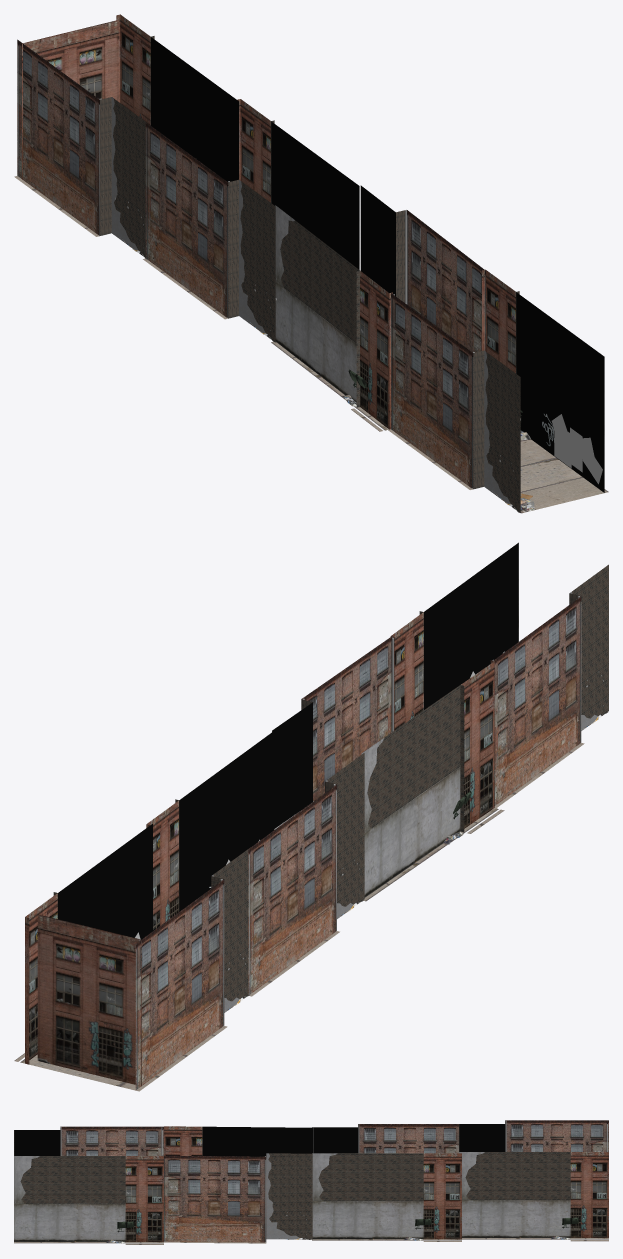
File: escenarioConvertido.fbx
The picture shows the model from 3 angles, top to bottom: view 1: azimuth 30°, elevation 25°; view 2: azimuth 150°, elevation 25°; view 3: azimuth 270°, elevation 25°; orthographic projection. The views are drawn at different scales.
Visible parts, largest first — view 1: Plane_1, Plane.002_3.001, Plane_1.002, Plane_1.003, Plane.003_47, Plane.003_47.003, Plane_1.001, Plane.003_47.002, Plane.001_2.002, Plane.001_2, Plane.001_2.003, Plane.004_48.001 (+4 smaller); view 2: Plane_1, Plane.002_3.001, Plane_1.003, Plane_1.002, Plane.003_47.002, Plane.003_47, Plane_1.001, Plane.003_47.003, Plane.001_2, Plane.001_2.002, Plane.004_48.001, Plane.001_2.003 (+3 smaller); view 3: Plane.002_3.002, Plane.002_3, Plane.002_3.003, Plane_1.001, Plane.001_2.001, Plane_1.003, Plane_1, Plane_1.002, Plane.003_47.001, Plane.004_48.003, Plane.004_48, Plane.004_48.002 (+1 smaller).
Part boxes in pixels (<box>): Plane_1: <box>22,20,608,513</box>; Plane.002_3.001: <box>275,205,392,431</box>; Plane_1.002: <box>143,122,276,342</box>; Plane_1.003: <box>14,39,99,236</box>; Plane.003_47: <box>516,292,604,492</box>; Plane.003_47.003: <box>151,37,238,181</box>; Plane_1.001: <box>271,210,485,430</box>; Plane.003_47.002: <box>271,121,359,269</box>; Plane.001_2.002: <box>228,179,275,342</box>; Plane.001_2: <box>473,350,520,512</box>; Plane.001_2.003: <box>100,97,147,257</box>; Plane.004_48.001: <box>361,185,395,296</box>; Plane_1: <box>37,596,584,1086</box>; Plane.002_3.001: <box>361,660,504,897</box>; Plane_1.003: <box>20,879,227,1091</box>; Plane_1.002: <box>248,784,339,996</box>; Plane.003_47.002: <box>179,731,274,911</box>; Plane.003_47: <box>424,543,518,709</box>; Plane_1.001: <box>301,635,498,901</box>; Plane.003_47.003: <box>58,823,152,939</box>; Plane.001_2: <box>569,564,608,730</box>; Plane.001_2.002: <box>325,753,364,918</box>; Plane.004_48.001: <box>272,702,312,828</box>; Plane.001_2.003: <box>211,847,250,1012</box>; Plane.002_3.002: <box>312,1153,461,1241</box>; Plane.002_3: <box>14,1156,163,1244</box>; Plane.002_3.003: <box>459,1152,608,1241</box>; Plane_1.001: <box>162,1155,266,1243</box>; Plane.001_2.001: <box>266,1153,312,1239</box>; Plane_1.003: <box>462,1120,608,1239</box>; Plane_1: <box>14,1126,163,1243</box>; Plane_1.002: <box>312,1124,461,1240</box>; Plane.003_47.001: <box>202,1126,313,1156</box>; Plane.004_48.003: <box>459,1124,505,1151</box>; Plane.004_48: <box>14,1130,60,1155</box>; Plane.004_48.002: <box>312,1127,358,1153</box>.
Bounding box in the file's own units: 2338 × 2383 × 14889.
